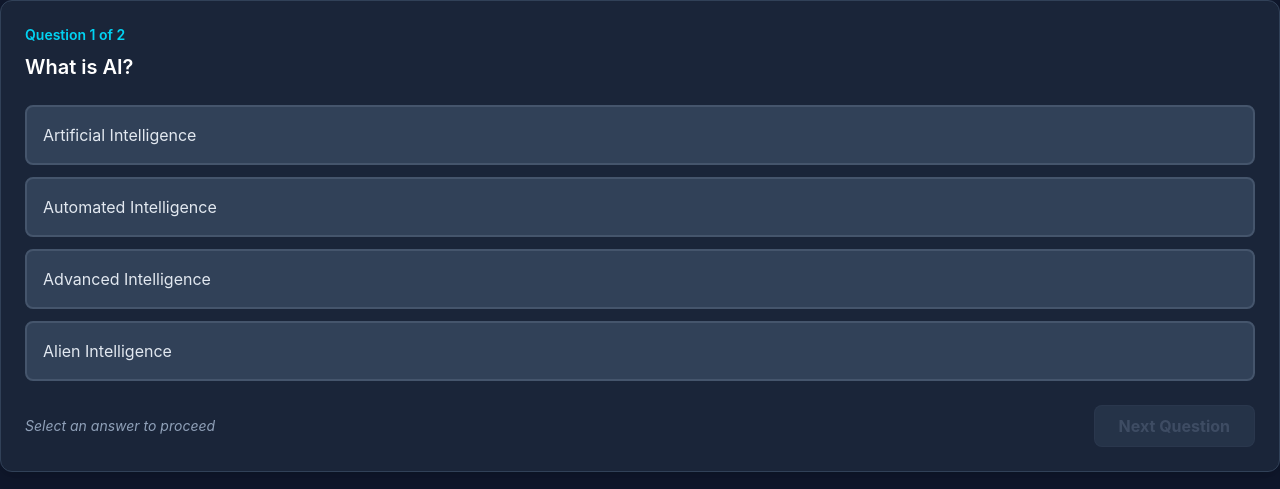
QuizView Component › calculates score correctly for mixed answers
Answer first question correctly
Click the button "Artificial Intelligence" at (120, 135), box [25,105,1255,165]
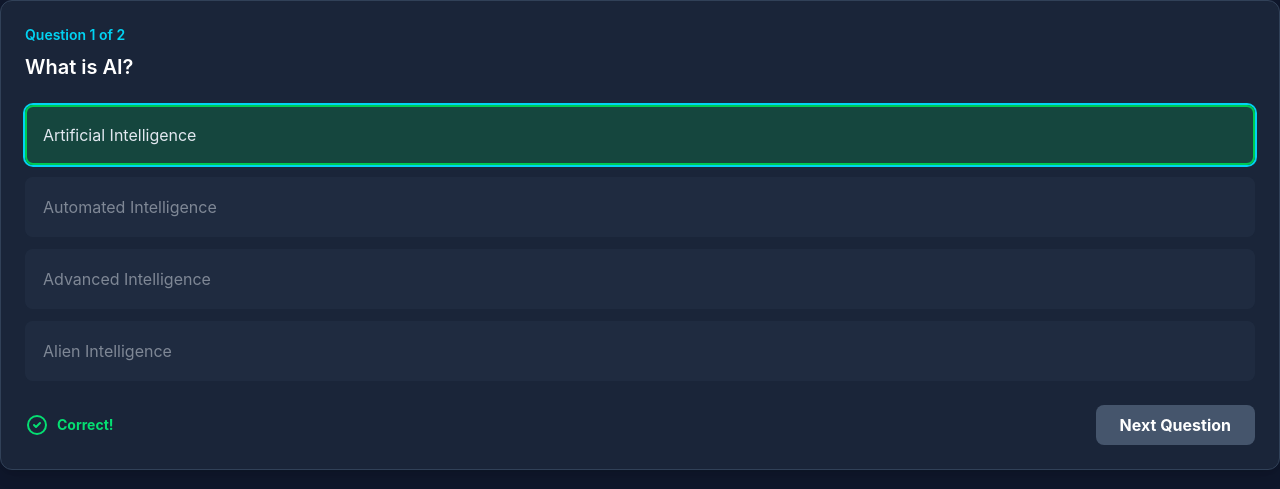
Click the button "Next Question" at (1175, 425), box [1096,405,1255,445]
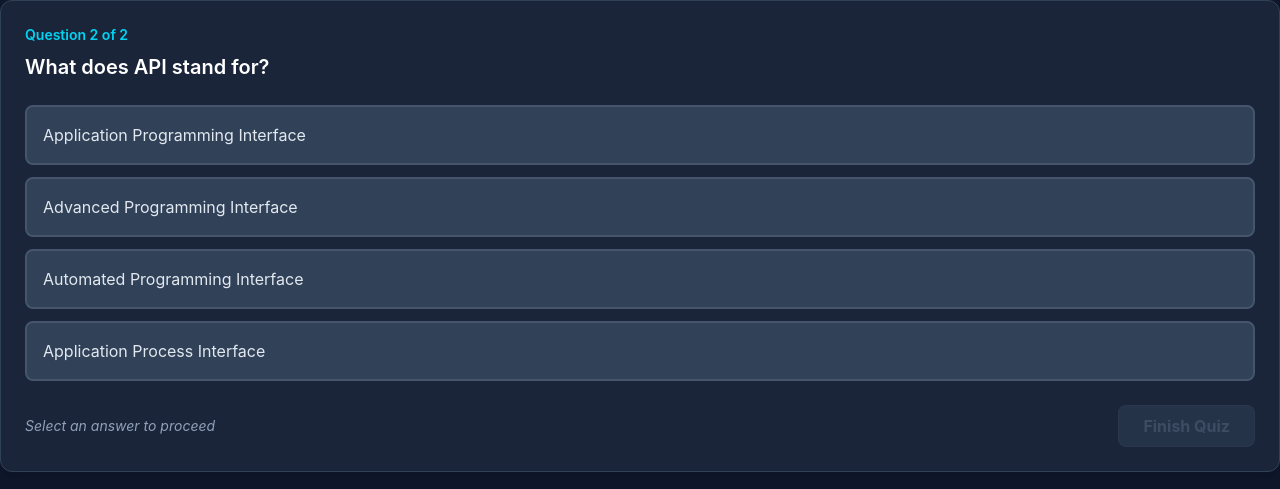
Answer second question incorrectly
Click the button "Advanced Programming Interface" at (170, 207), box [25,177,1255,237]
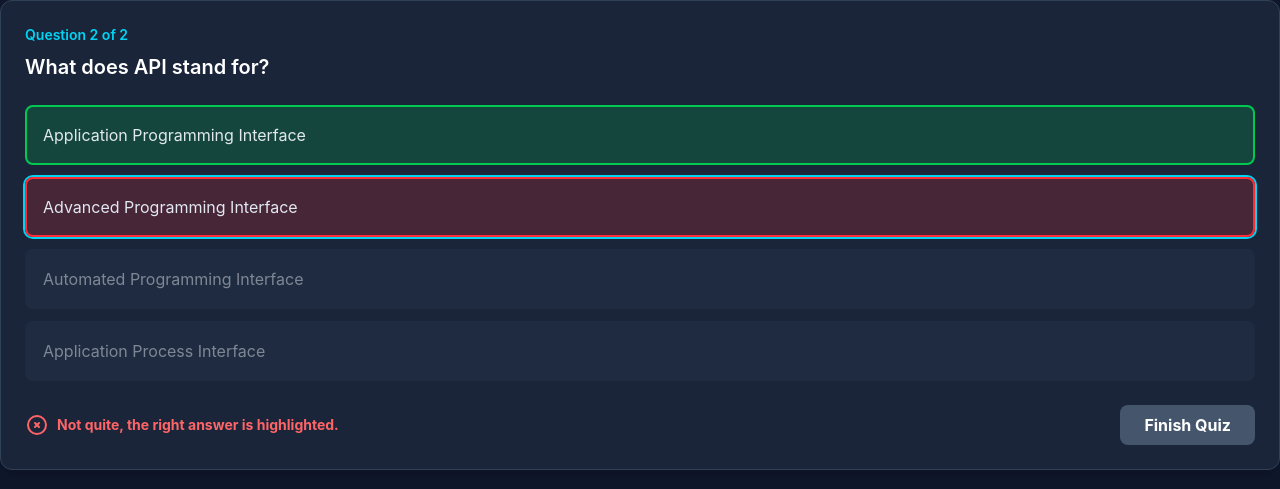
Click the button "Finish Quiz" at (1188, 425), box [1120,405,1255,445]
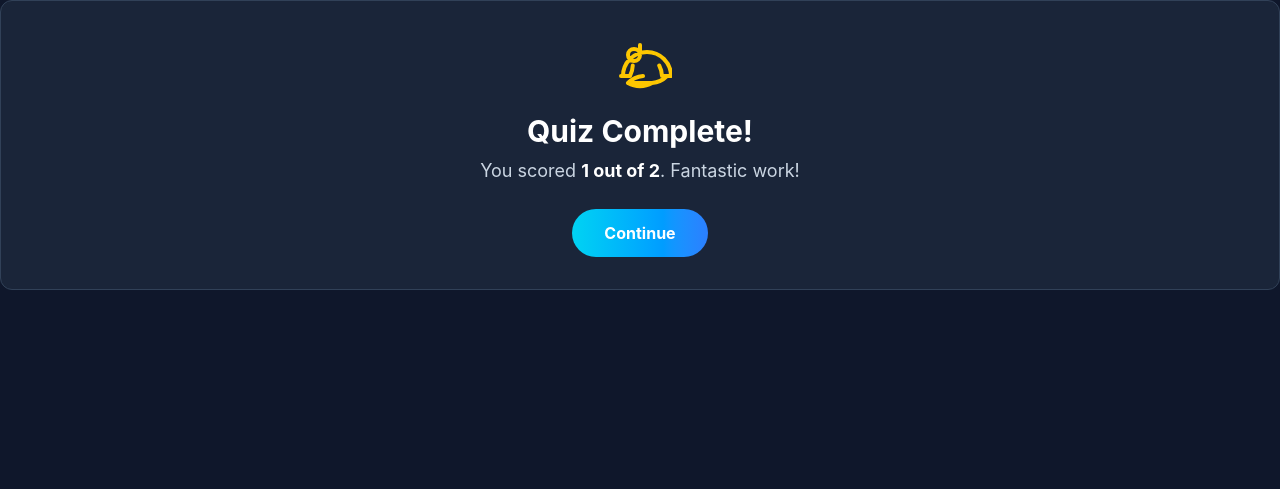
Expected: the text "1 out of 2" is shown, [581,160,660,181]
